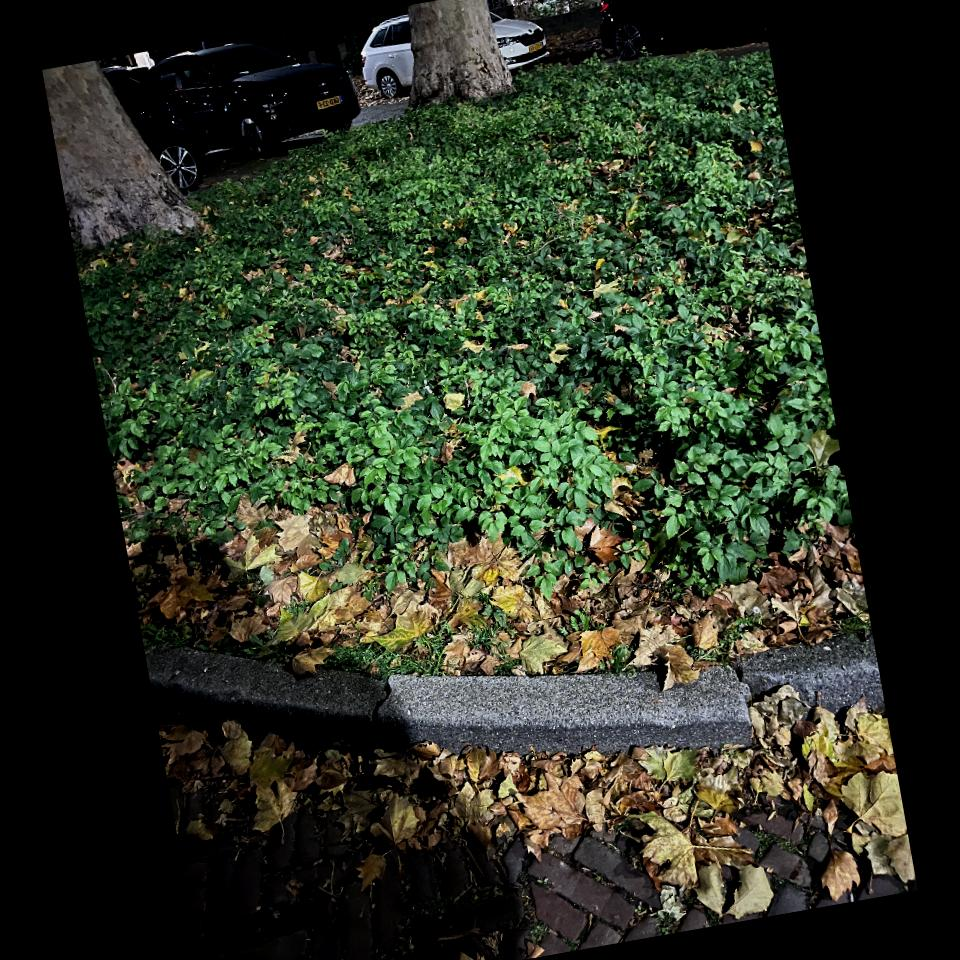weed: (59, 41, 866, 734)
